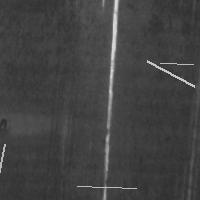scratches: (100, 1, 119, 196), (142, 56, 199, 91), (72, 181, 141, 193), (0, 139, 9, 200), (155, 58, 198, 69)
